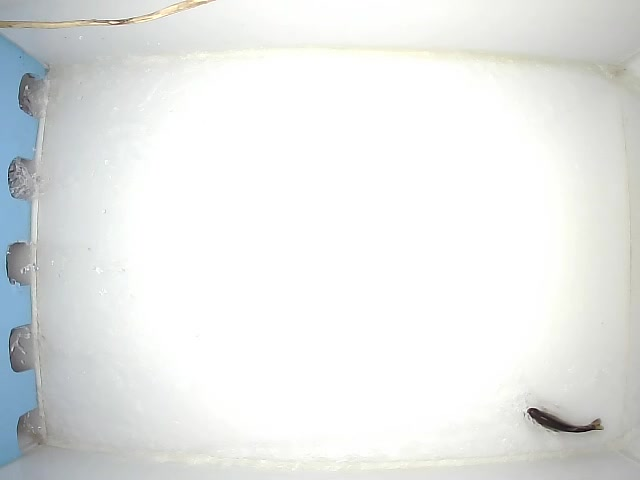fish: (525, 405, 605, 434)
